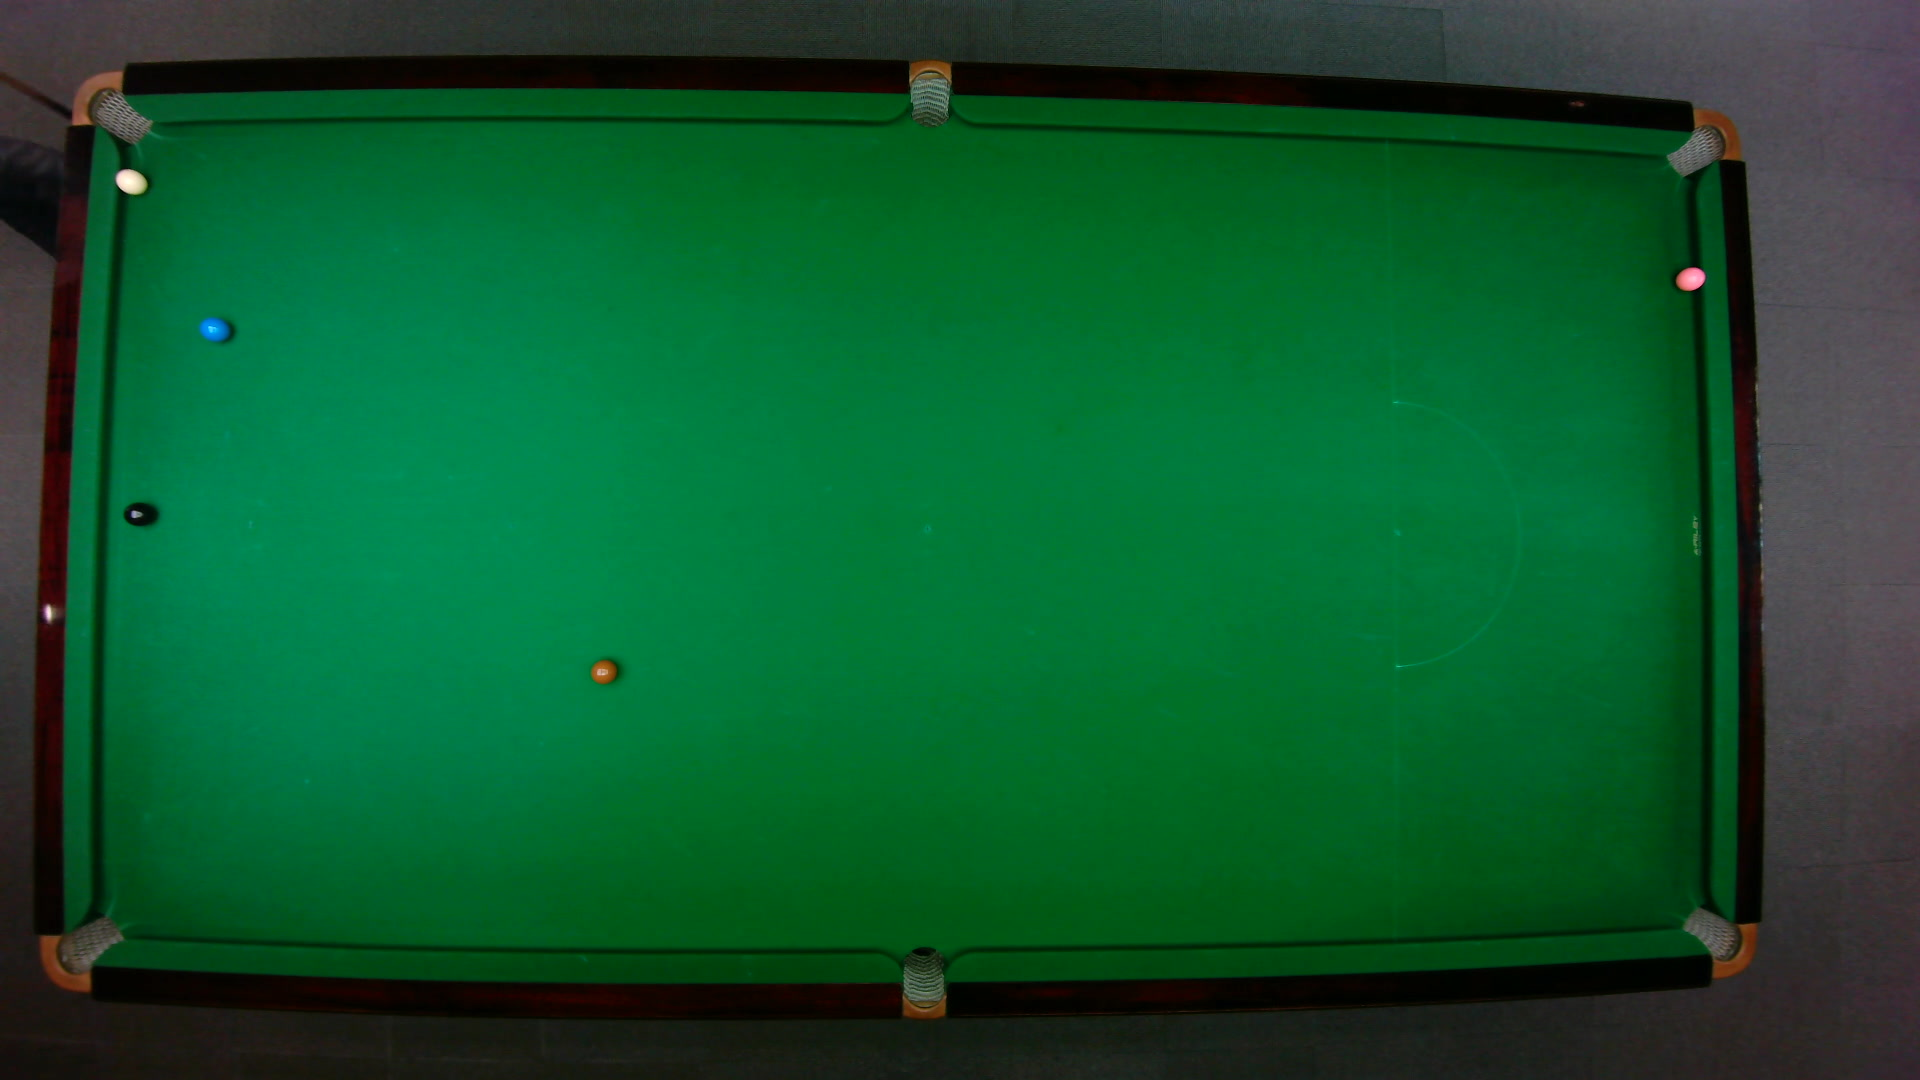bag: (37, 914, 125, 992), (69, 69, 152, 144), (1677, 905, 1756, 978), (1663, 107, 1741, 177), (901, 944, 944, 1021), (909, 57, 949, 127)
black: (121, 501, 154, 526)
blue: (196, 314, 231, 342)
brown: (589, 657, 618, 684)
pink: (1673, 264, 1706, 291)
white: (113, 166, 148, 195)
zone: (1391, 400, 1520, 669)
